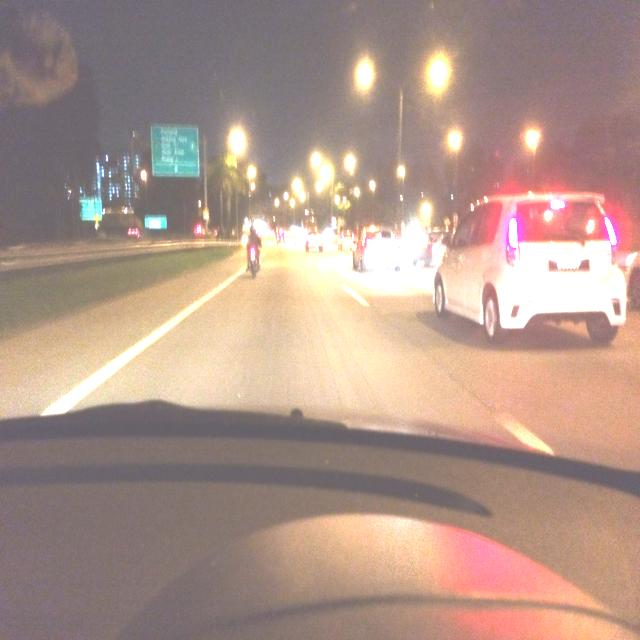Motorbike: (247, 225, 262, 281)
